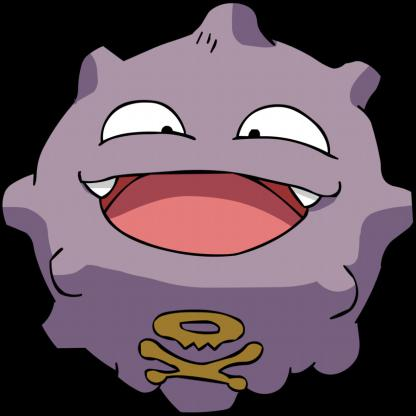Koffing: (1, 1, 416, 416)
